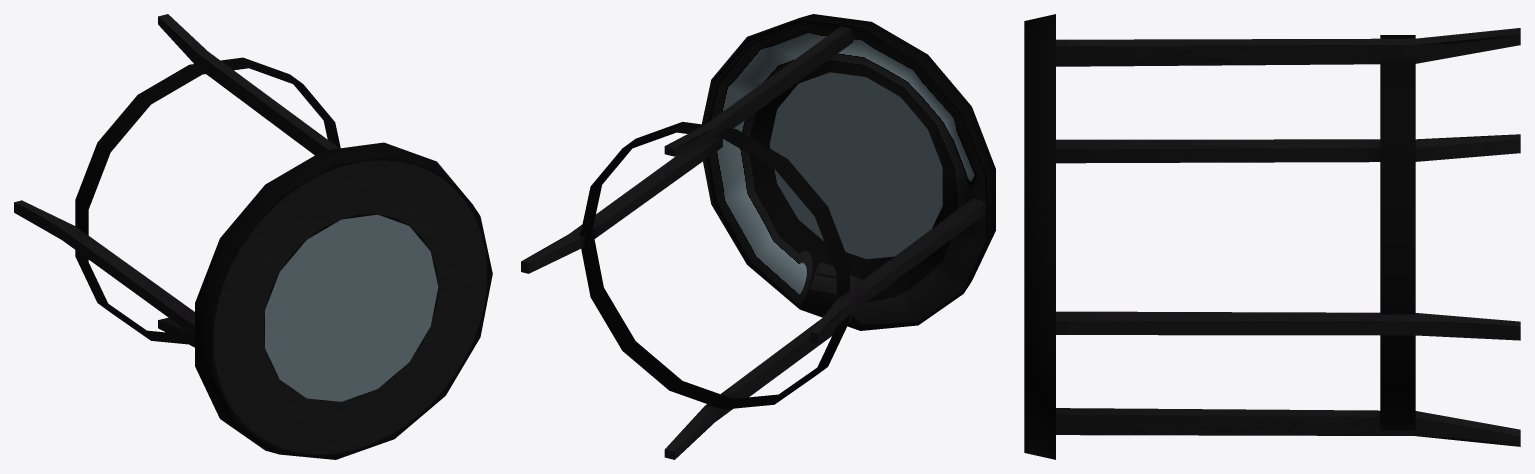
The model's file is dub_lounge_table_03_LOD2.obj.
3 renders of one model, left to right at view 1: azimuth 30°, elevation 25°; view 2: azimuth 150°, elevation 25°; view 3: azimuth 270°, elevation 25°, orthographic. The views are drawn at different scales.
Parts seen in each view (by area): view 1: mtl_dub_lounge_table_01_metal, mtl_dub_lounge_table_01_glass; view 2: mtl_dub_lounge_table_01_metal, mtl_dub_lounge_table_01_glass; view 3: mtl_dub_lounge_table_01_metal.
Part boxes in pixels (<box>): mtl_dub_lounge_table_01_metal: <box>14,14,492,459</box>; mtl_dub_lounge_table_01_glass: <box>265,214,438,401</box>; mtl_dub_lounge_table_01_metal: <box>521,14,995,459</box>; mtl_dub_lounge_table_01_glass: <box>769,72,942,259</box>; mtl_dub_lounge_table_01_metal: <box>1024,14,1520,459</box>.
Size of the model in its own units: 45.62 by 45.62 by 49.74.
